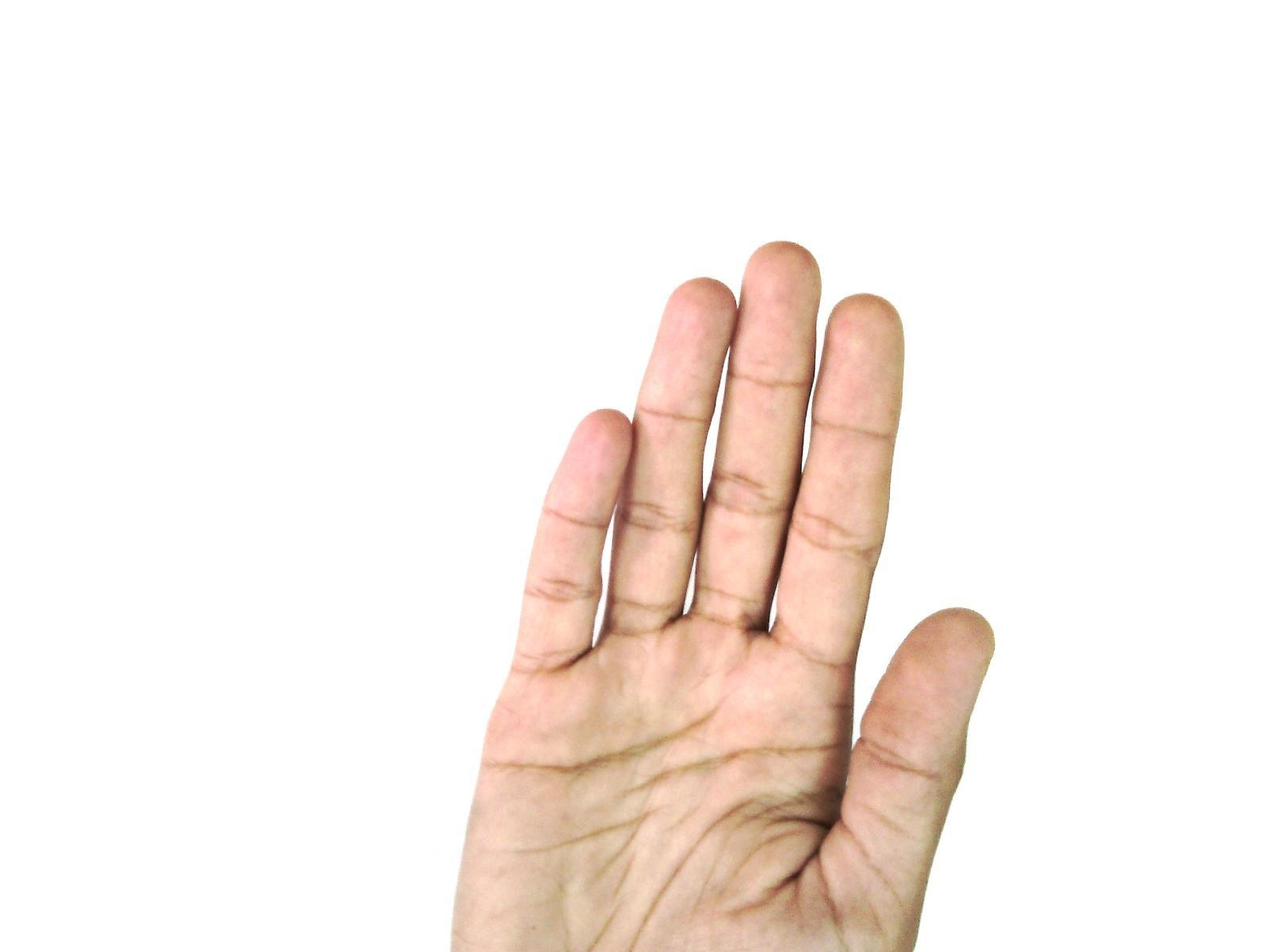open_palm: (447, 240, 998, 952)
